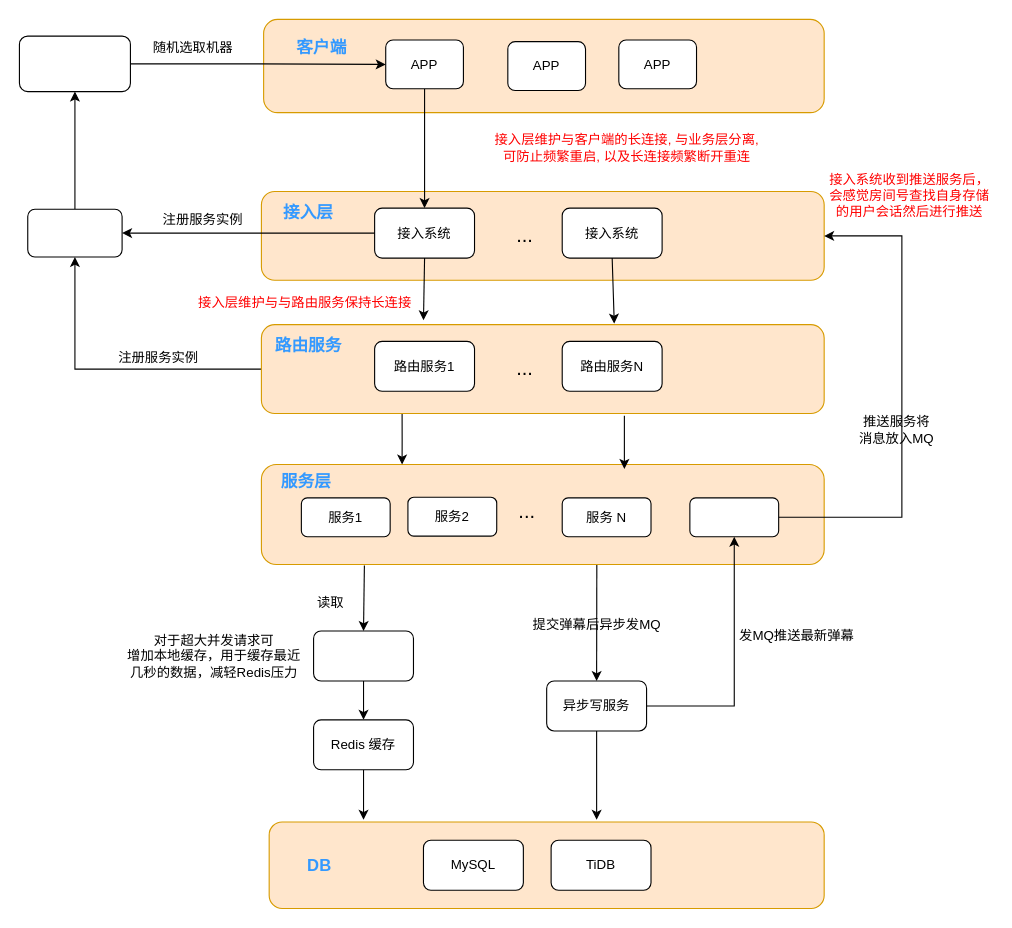
The diagram is 1012 pixels wide and 928 high, and some of its shapes have lost their labels. Each missing label, with the centre of its shape:
"接入系统 IP 地址列表服务" goes at point 74,63.
"推送服务" goes at point 734,517.
"本地缓存" goes at point 362,655.
"注册中心" goes at point 74,232.
